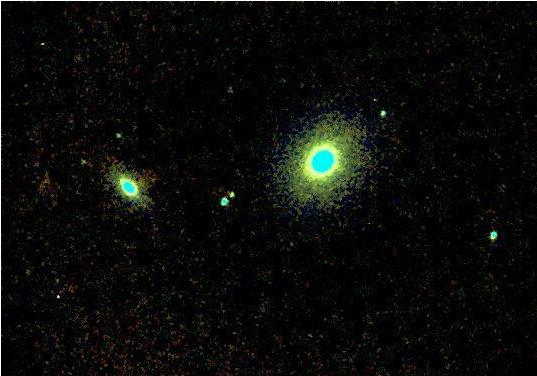star: (354, 210, 384, 240)
